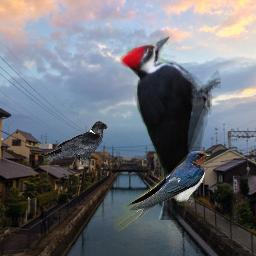Crow: (41, 121, 109, 169)
Swallow: (114, 151, 211, 232)
Woodpecker: (117, 35, 221, 220)
